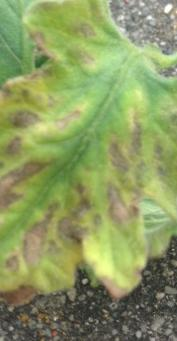Tomato mold leaf: (0, 0, 177, 330)
